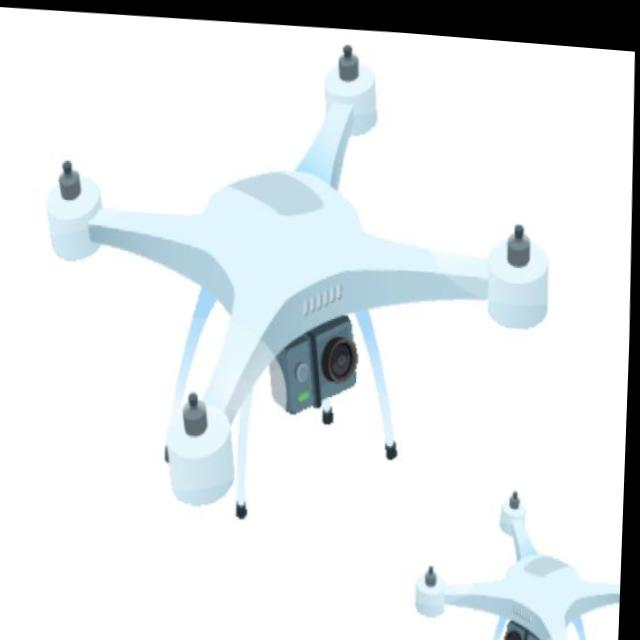drones: (17, 2, 575, 557), (393, 445, 628, 640)
